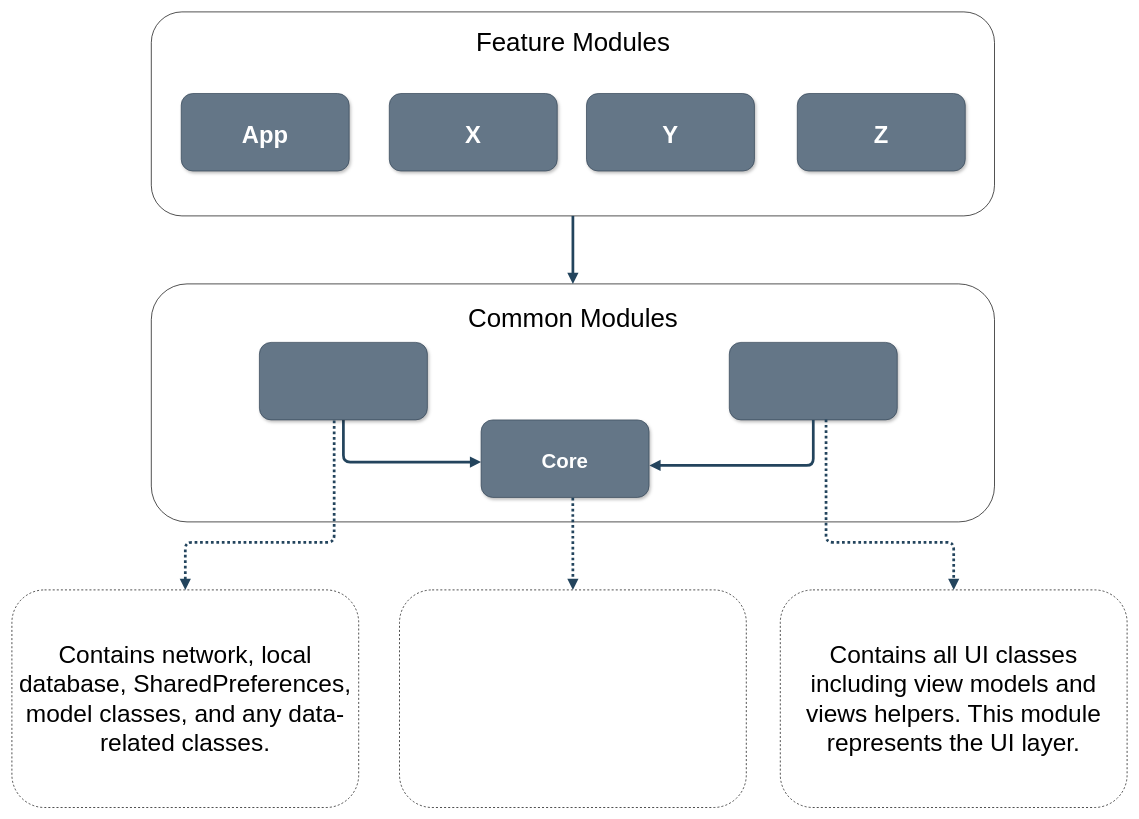
Some shapes in this 1139 by 819 pixel diagram are drawn without their labels. The centre of each missing label's shape, as x and y in pixels:
Contains all shared classes that are visible to all modules.: (x=572, y=698)
Data: (x=343, y=382)
Presentation: (x=813, y=382)
